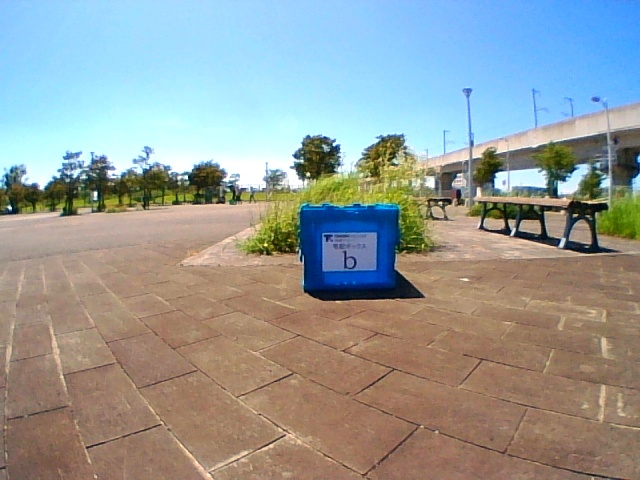blue_box: (304, 206, 393, 285)
tag_b: (323, 234, 376, 271)
